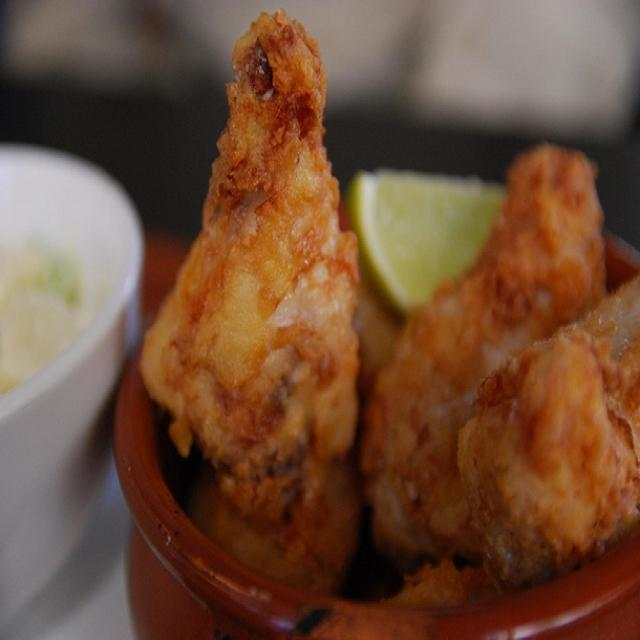Deep fried chicken wing: (139, 45, 631, 581)
